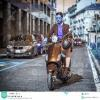motorcycles: (45, 34, 68, 91)
